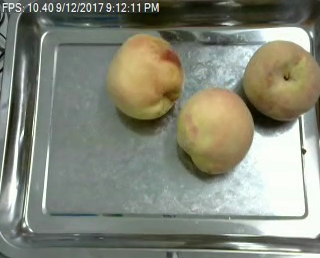Peach: (175, 86, 254, 174), (107, 32, 184, 120), (240, 39, 320, 121)
